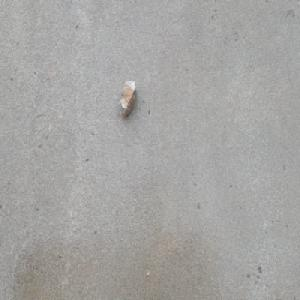Rock: (119, 79, 138, 118)
